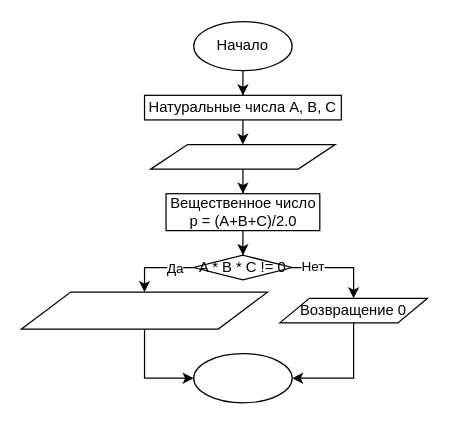
This 449x424 diagram has some shape labels left out. Here are the shapes that lost their labels. From the top down, the centre of each, then its label:
At pixel 242 156: "Получение A, B, C".
At pixel 144 310: "Возвращение 2*sqrt(p*(p-A)*(p-B)*(p-C))/A".
At pixel 242 377: "Конец".
